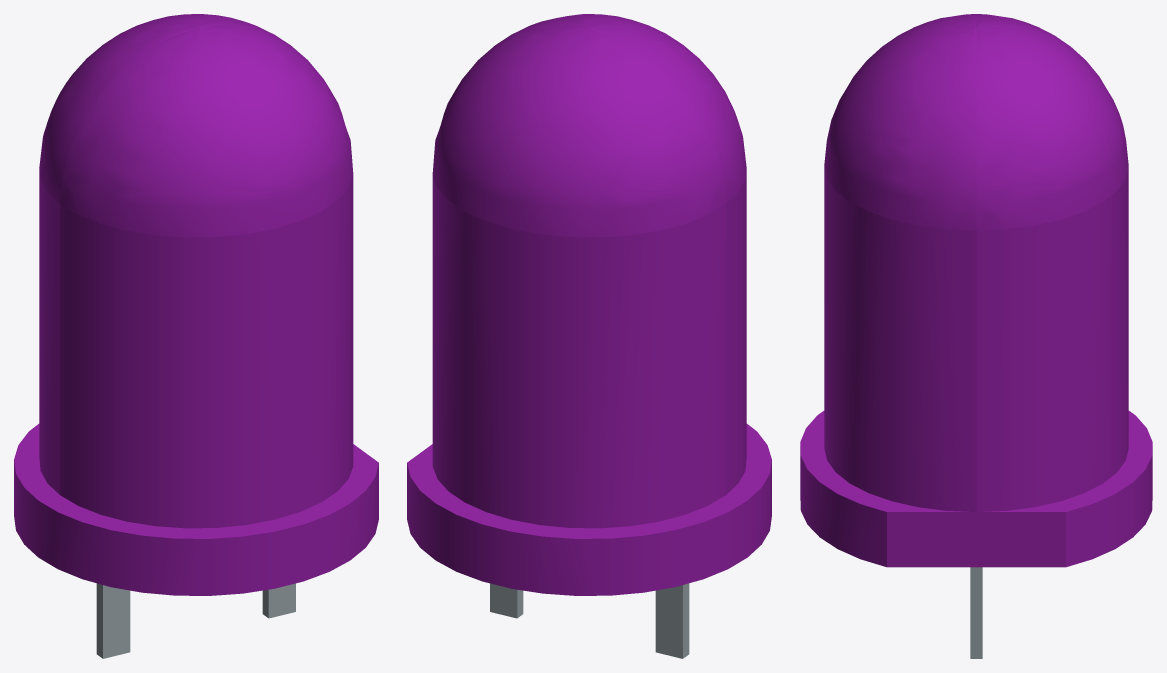
Rendered from sfe-led_pth_5mm_purple.glb.
3 renders of one model, left to right at view 1: azimuth 30°, elevation 25°; view 2: azimuth 150°, elevation 25°; view 3: azimuth 270°, elevation 25°, orthographic. The views are drawn at different scales.
Visible parts, largest first — view 1: 0.3333333333333333_0_0.4166666666666667_0, 0.3333333333333333_0.4166666666666667_0.4166666666666667_0; view 2: 0.3333333333333333_0_0.4166666666666667_0, 0.3333333333333333_0.4166666666666667_0.4166666666666667_0; view 3: 0.3333333333333333_0_0.4166666666666667_0, 0.3333333333333333_0.4166666666666667_0.4166666666666667_0.
Boxes of the visible parts, left/top/right/bottom form: 0.3333333333333333_0_0.4166666666666667_0: left=14, top=14, right=378, bottom=595; 0.3333333333333333_0.4166666666666667_0.4166666666666667_0: left=96, top=583, right=295, bottom=658; 0.3333333333333333_0_0.4166666666666667_0: left=407, top=14, right=771, bottom=595; 0.3333333333333333_0.4166666666666667_0.4166666666666667_0: left=490, top=583, right=689, bottom=658; 0.3333333333333333_0_0.4166666666666667_0: left=800, top=14, right=1152, bottom=567; 0.3333333333333333_0.4166666666666667_0.4166666666666667_0: left=970, top=567, right=982, bottom=658.
Bounding box in the file's own units: 0.54 × 1.06 × 0.5782.
